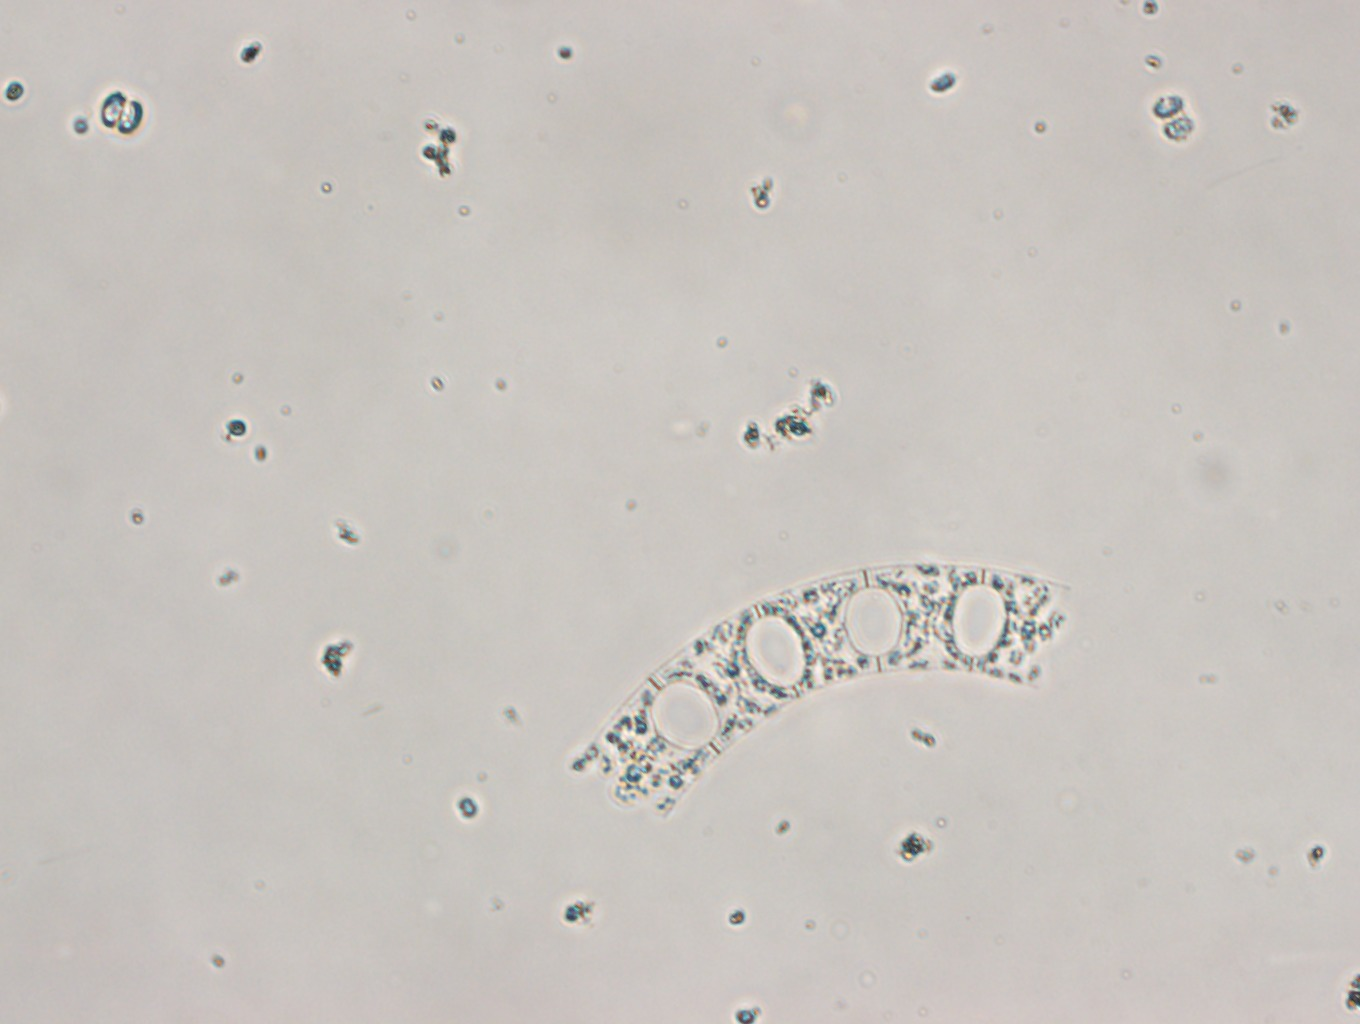eucampia: (577, 561, 1084, 822)
